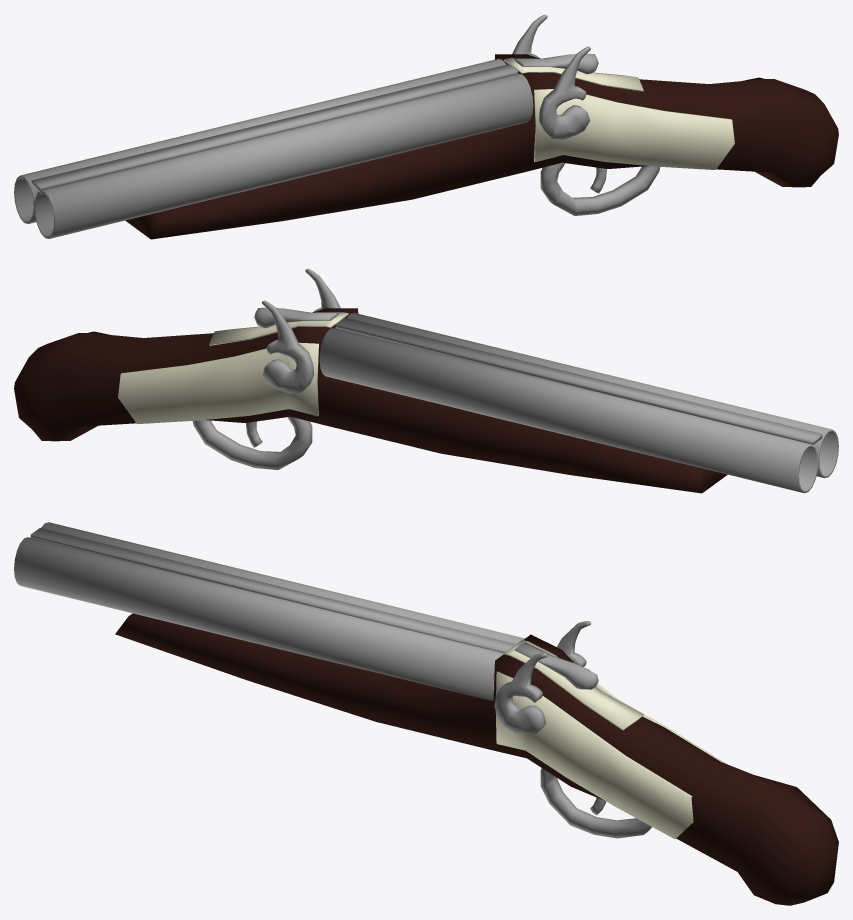
The model's file is Doble Barrel Shotgun02.fbx.
The picture shows the model from 3 angles, top to bottom: view 1: azimuth 30°, elevation 25°; view 2: azimuth 150°, elevation 25°; view 3: azimuth 330°, elevation 25°; orthographic projection.
Parts seen in each view (by area): view 1: Cube.003, Cube.004; view 2: Cube.003, Cube.004; view 3: Cube.003, Cube.004.
Part boxes in pixels (x1,y1,x2,y2): Cube.003: (125,14,838,239); Cube.004: (14,58,533,238); Cube.003: (14,268,727,493); Cube.004: (319,313,838,493); Cube.003: (115,613,838,905); Cube.004: (14,522,524,700).
Size of the model in its own units: 469 by 118 by 50.45.
